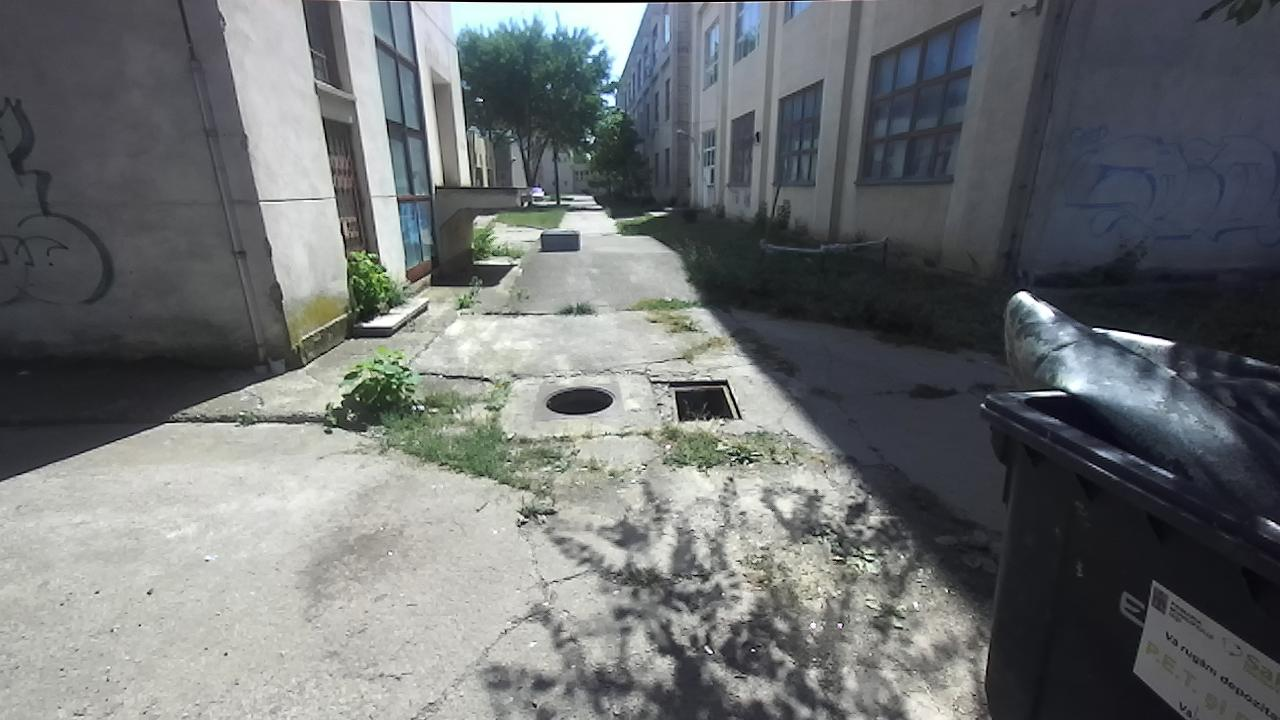drain: (646, 375, 751, 425), (538, 383, 616, 415)
